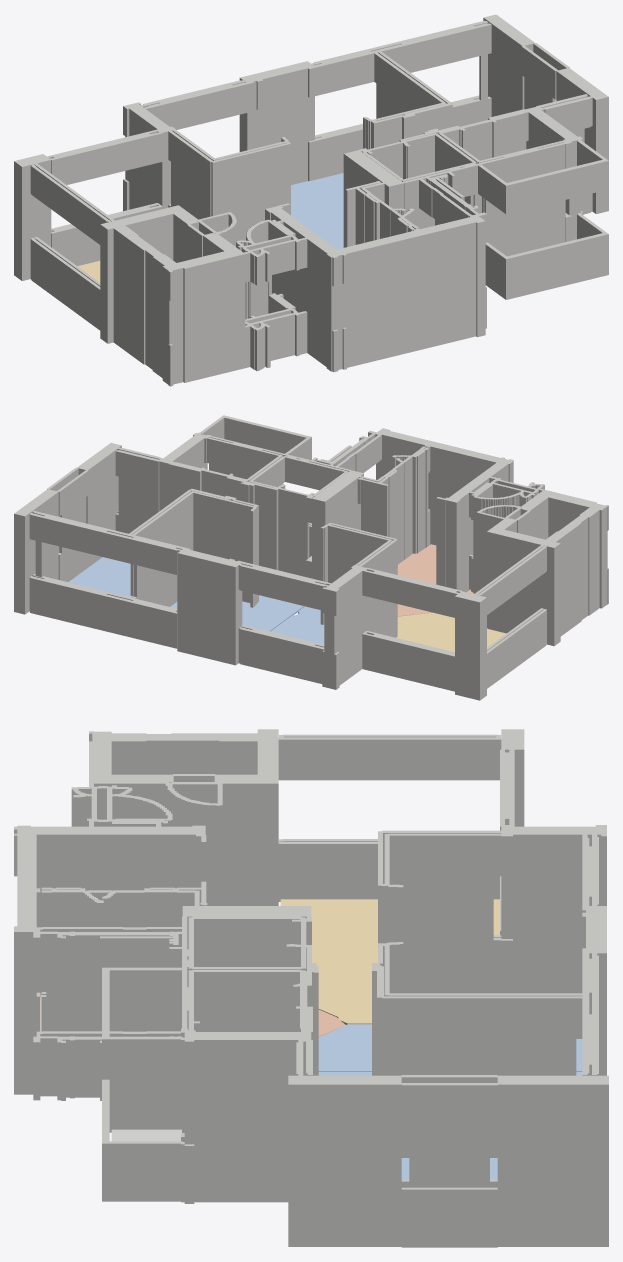
3 renders of one model, top to bottom at view 1: azimuth 30°, elevation 25°; view 2: azimuth 150°, elevation 25°; view 3: azimuth 270°, elevation 25°, orthographic. The views are drawn at different scales.
Visible parts, largest first — view 1: walls, room:bedroom:2; view 2: walls, room:living:0, room:bedroom:7, room:bedroom:2, room:kitchen:5, room:bedroom:1; view 3: walls, room:living:0, room:bedroom:1, room:ledge:9.
Boxes of the visible parts, x1,y1,x2,y2 form: walls: [14, 14, 608, 386]; room:bedroom:2: [291, 173, 343, 249]; walls: [14, 415, 608, 700]; room:living:0: [396, 612, 506, 651]; room:bedroom:7: [68, 557, 130, 596]; room:bedroom:2: [170, 595, 304, 631]; room:kitchen:5: [397, 544, 473, 616]; room:bedroom:1: [271, 606, 324, 644]; walls: [14, 729, 608, 1247]; room:living:0: [280, 899, 499, 1024]; room:bedroom:1: [318, 1024, 582, 1071]; room:ledge:9: [111, 1129, 181, 1141].
Size of the model in its own units: 13.16 by 2.8 by 9.29.
